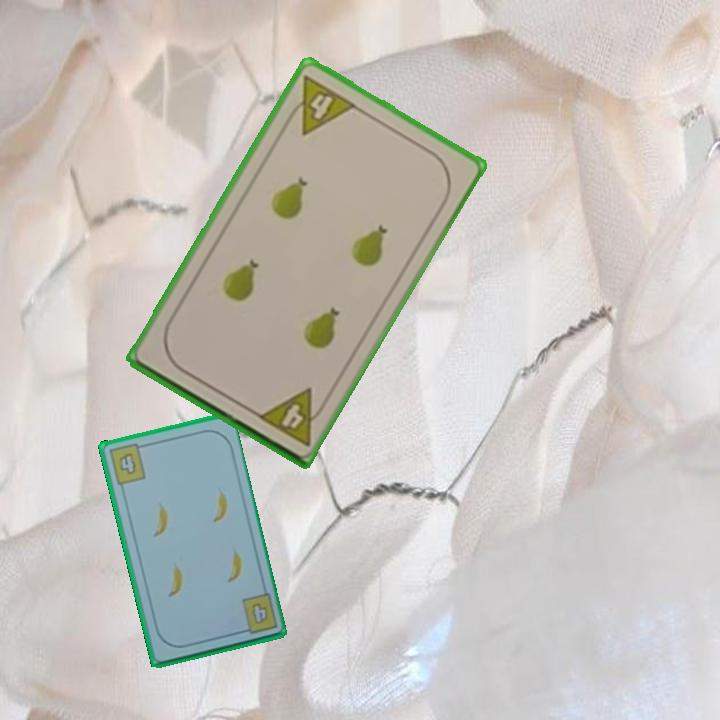4b: (235, 590, 280, 637), (105, 440, 148, 488)
4p: (280, 71, 359, 138), (254, 384, 331, 449)
